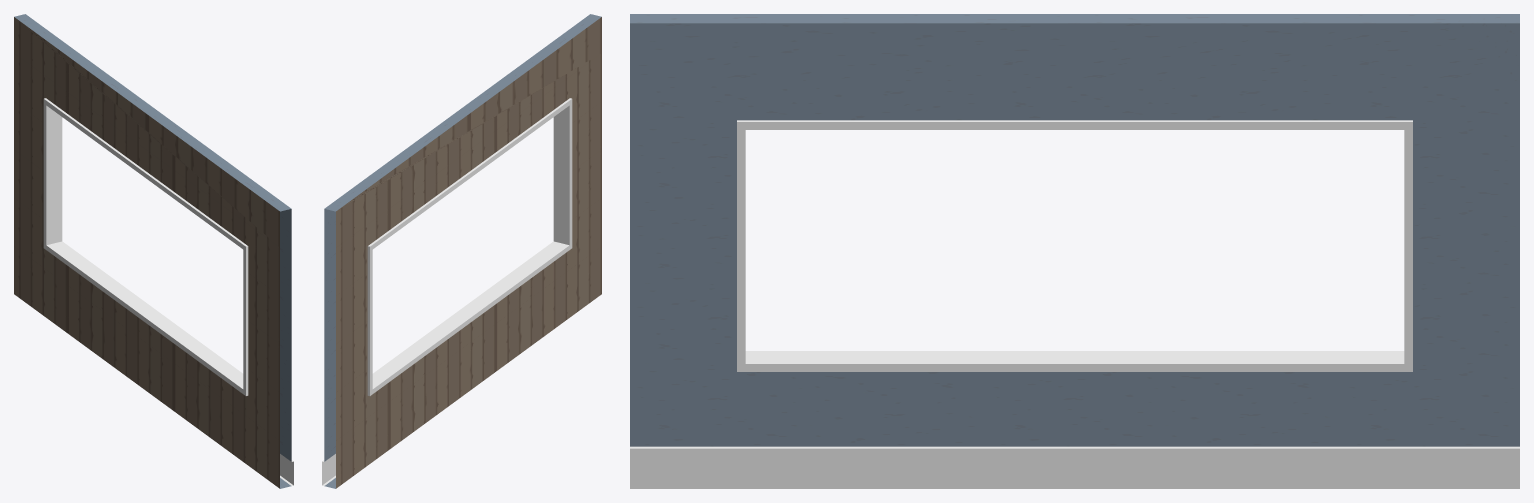
Rendered from Tile_House_Wall_Window_02.obj.
The picture shows the model from 3 angles, left to right: view 1: azimuth 30°, elevation 25°; view 2: azimuth 150°, elevation 25°; view 3: azimuth 270°, elevation 25°; orthographic projection. The views are drawn at different scales.
Parts seen in each view (by area): view 1: Tile_House_Wall_Window_02_mi_HouseExteriorWalls_01, Tile_House_Wall_Window_02_mi_WhiteTrim, Tile_House_Wall_Window_02_mi_HouseInteriorWalls_02; view 2: Tile_House_Wall_Window_02_mi_HouseExteriorWalls_01, Tile_House_Wall_Window_02_mi_WhiteTrim, Tile_House_Wall_Window_02_mi_HouseInteriorWalls_02; view 3: Tile_House_Wall_Window_02_mi_HouseInteriorWalls_02, Tile_House_Wall_Window_02_mi_WhiteTrim.
Part boxes in pixels (x1,y1,x2,y2): Tile_House_Wall_Window_02_mi_HouseExteriorWalls_01: [14, 17, 279, 488]; Tile_House_Wall_Window_02_mi_WhiteTrim: [43, 98, 293, 485]; Tile_House_Wall_Window_02_mi_HouseInteriorWalls_02: [14, 14, 291, 488]; Tile_House_Wall_Window_02_mi_HouseExteriorWalls_01: [336, 17, 601, 488]; Tile_House_Wall_Window_02_mi_WhiteTrim: [322, 98, 572, 485]; Tile_House_Wall_Window_02_mi_HouseInteriorWalls_02: [324, 14, 601, 488]; Tile_House_Wall_Window_02_mi_HouseInteriorWalls_02: [630, 14, 1519, 446]; Tile_House_Wall_Window_02_mi_WhiteTrim: [630, 120, 1519, 488].
Bounding box in the file's own units: 0.35 × 5.75 × 10.
Materials: 3 (2 with a texture image).
